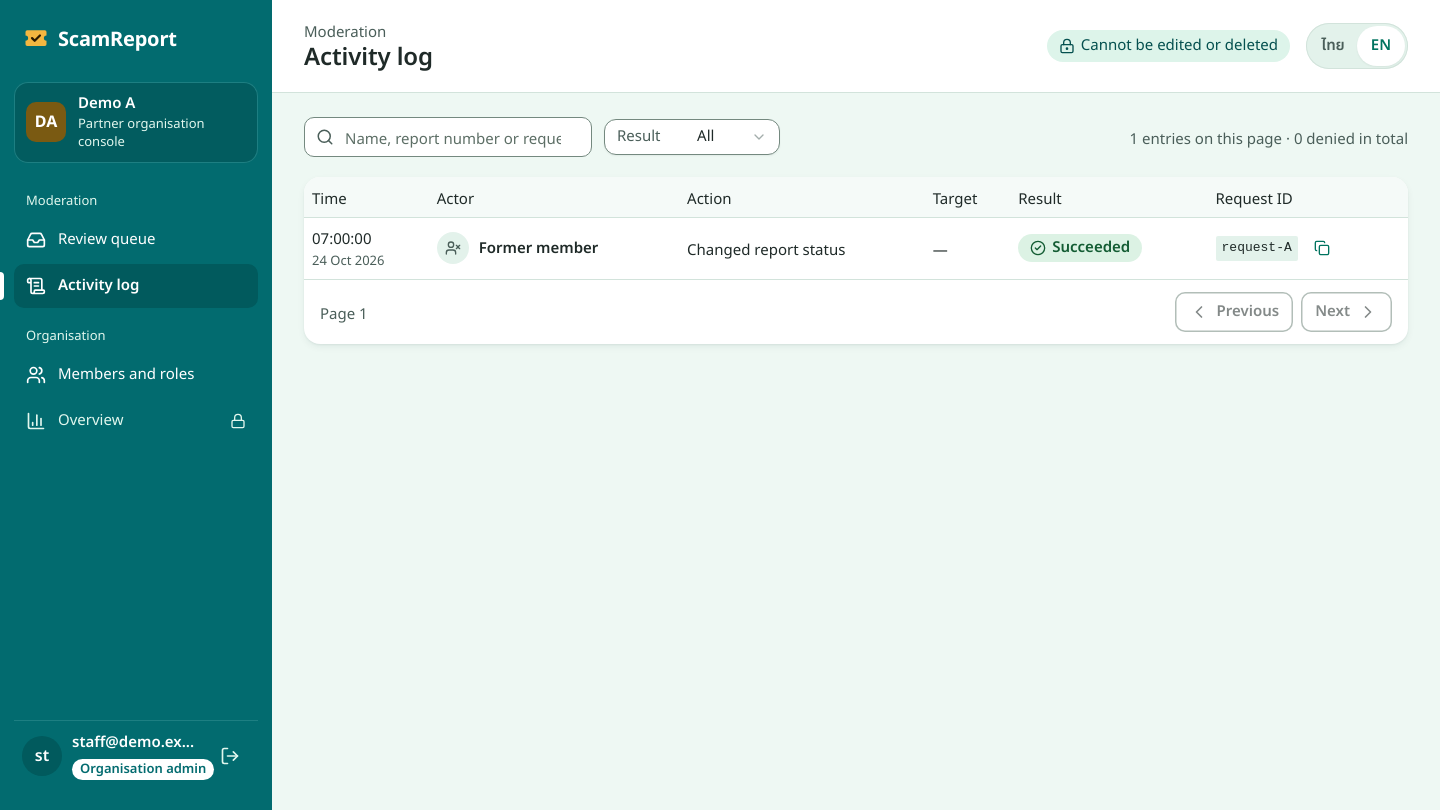
changing Activity result hides prior rows while the new result is pending
Expected: the text "request-A" is shown, 1216,236 -> 1298,261
Press ArrowDown in the dropdown labelled "Result", box 604,119 -> 780,155
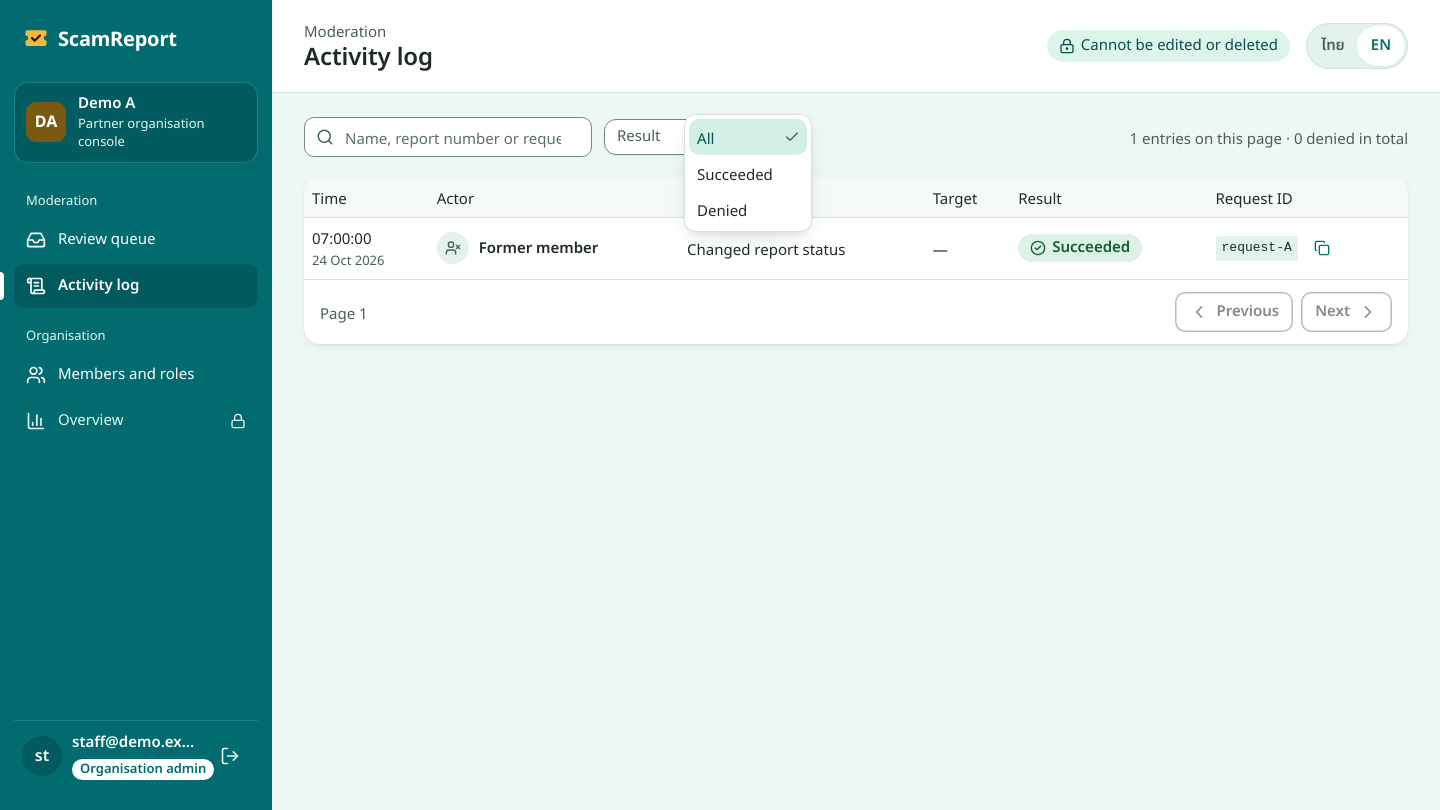
Click the option "Denied" at (722, 209), box 697,197 -> 747,221
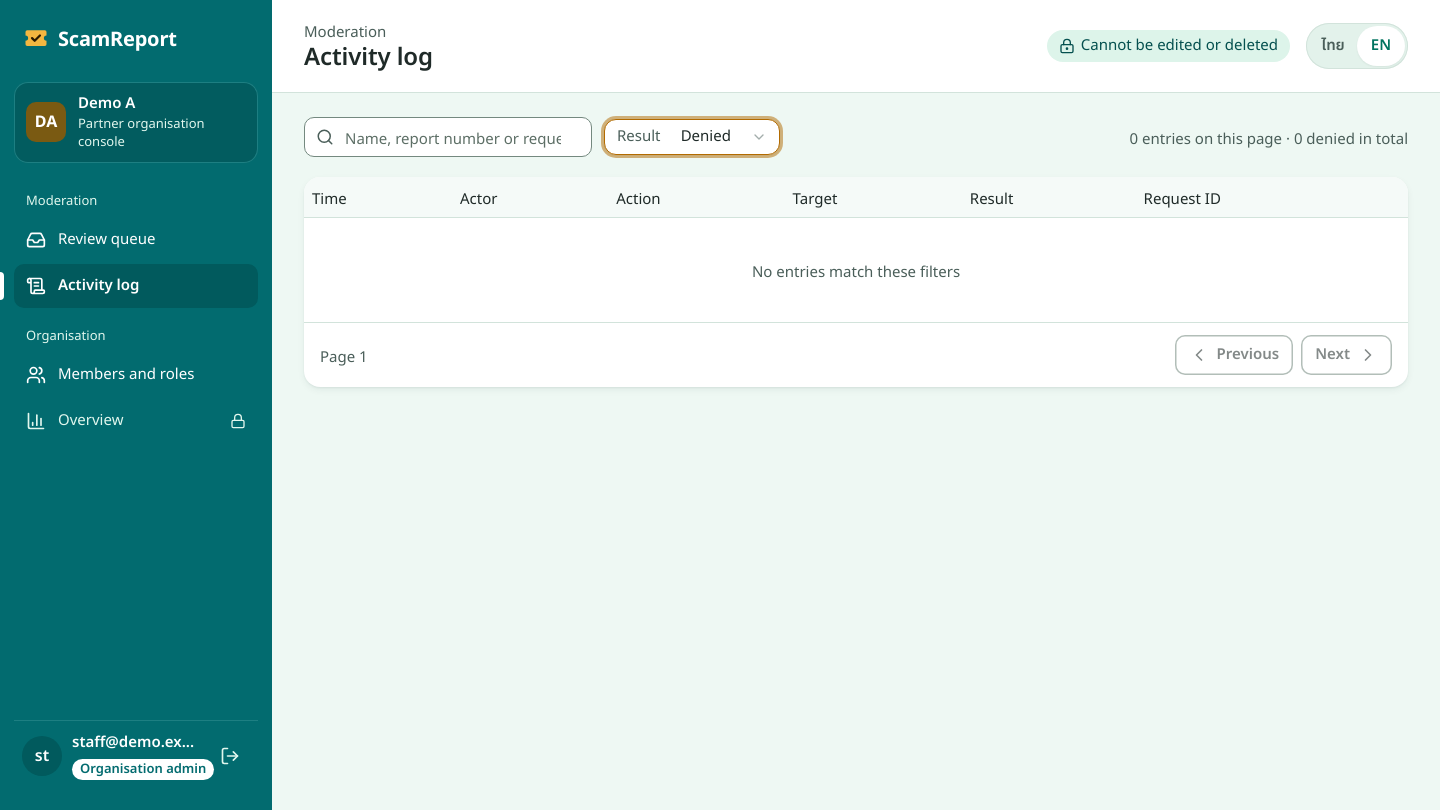
Expected: the text "request-A" is gone
Expected: the text "No entries match these filters" is shown, 304,217 -> 1408,322
